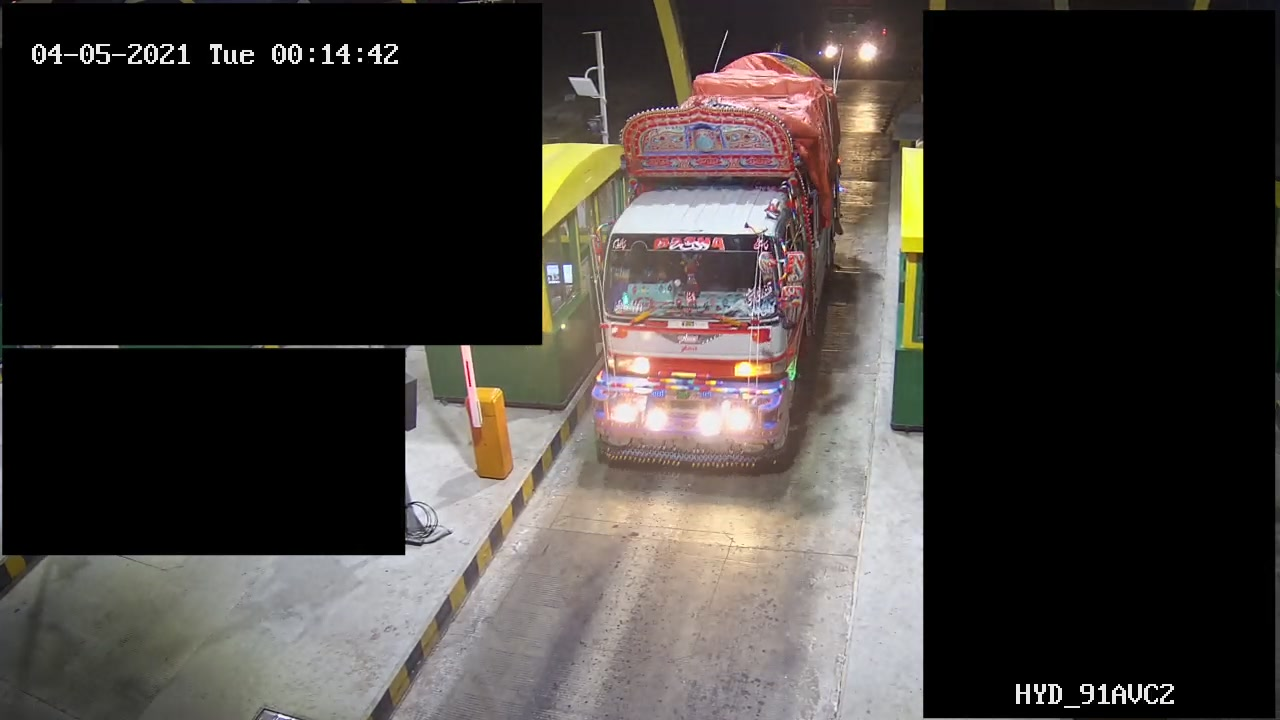F5: (579, 52, 839, 480)
